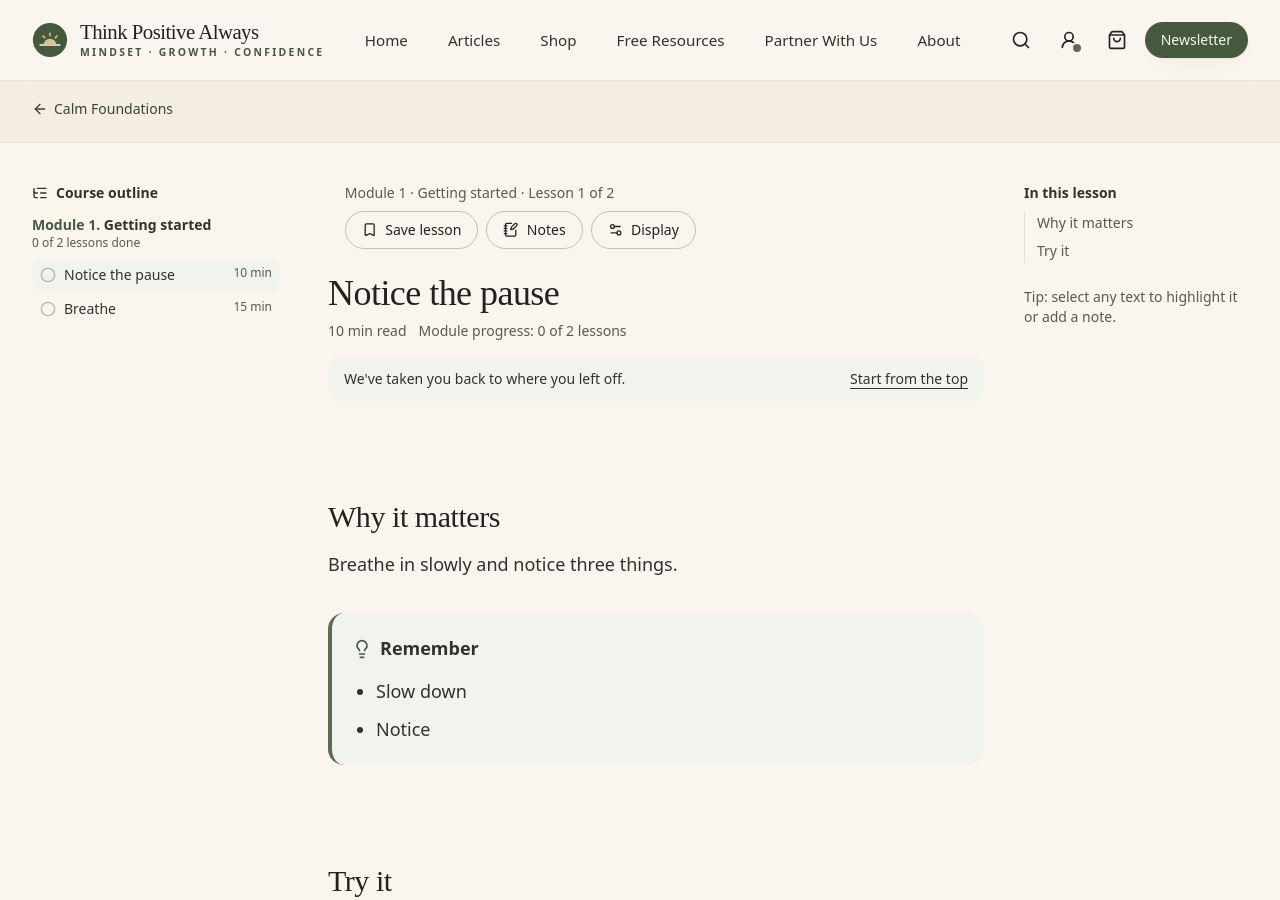
Test: premium lesson reader › returns the reader to the last meaningful position
The image size is (1280, 900).
expect the heading "Notice the pause" is shown: met, box [328,273,559,313]
expect the text "We've taken you back to where you left off." is shown: met, box [344,369,625,388]
Click the button "Start from the top": {"x": 909, "y": 379} [850,369,968,389]
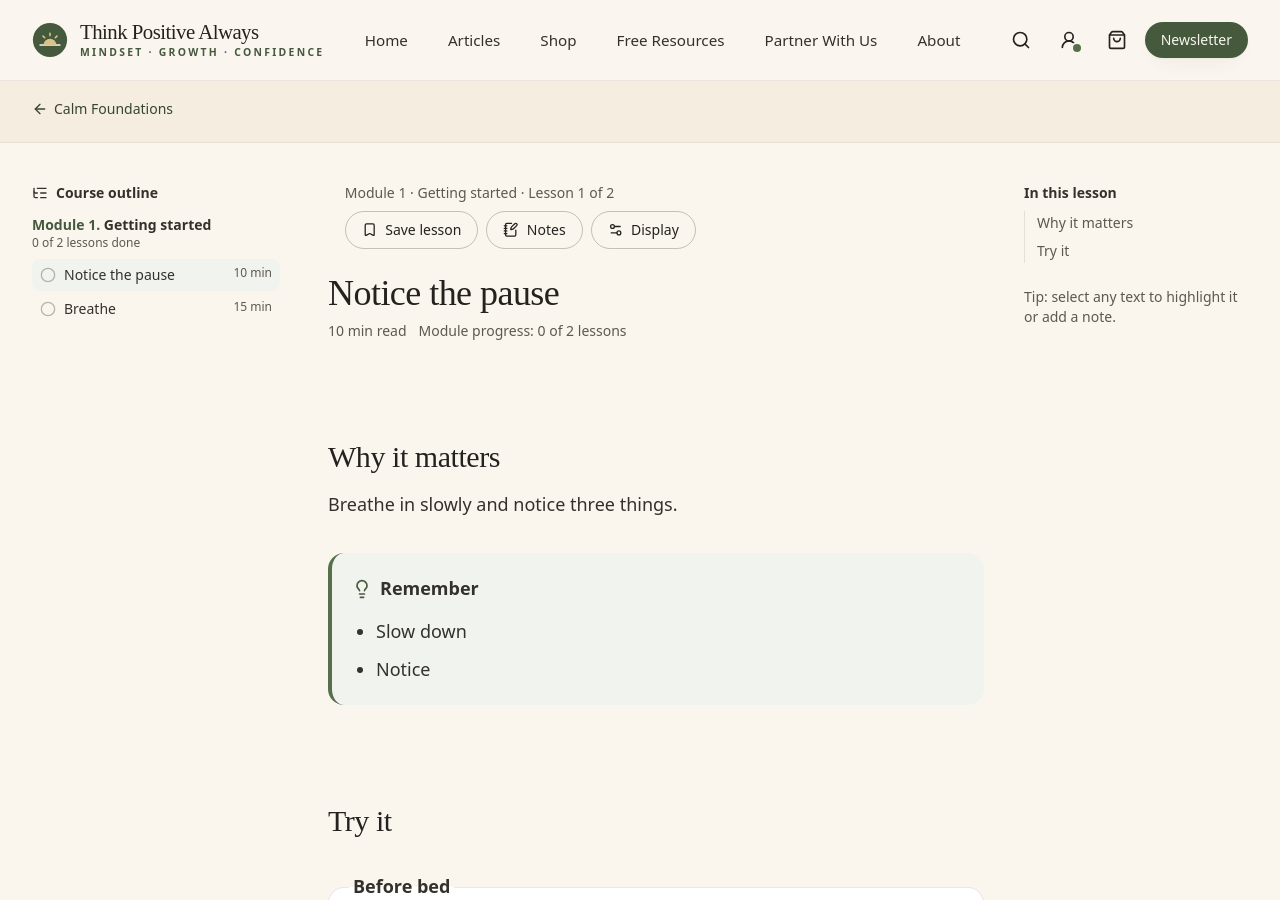
expect the text "We've taken you back to where you left off." is gone: met
